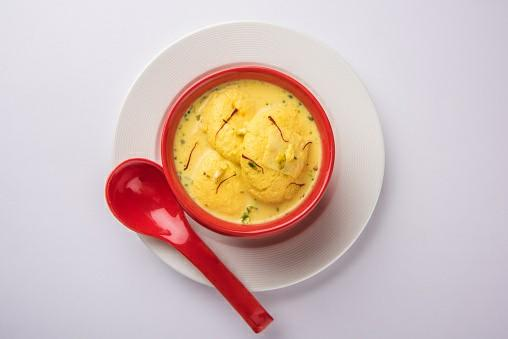RasMalai: (172, 79, 319, 223)
